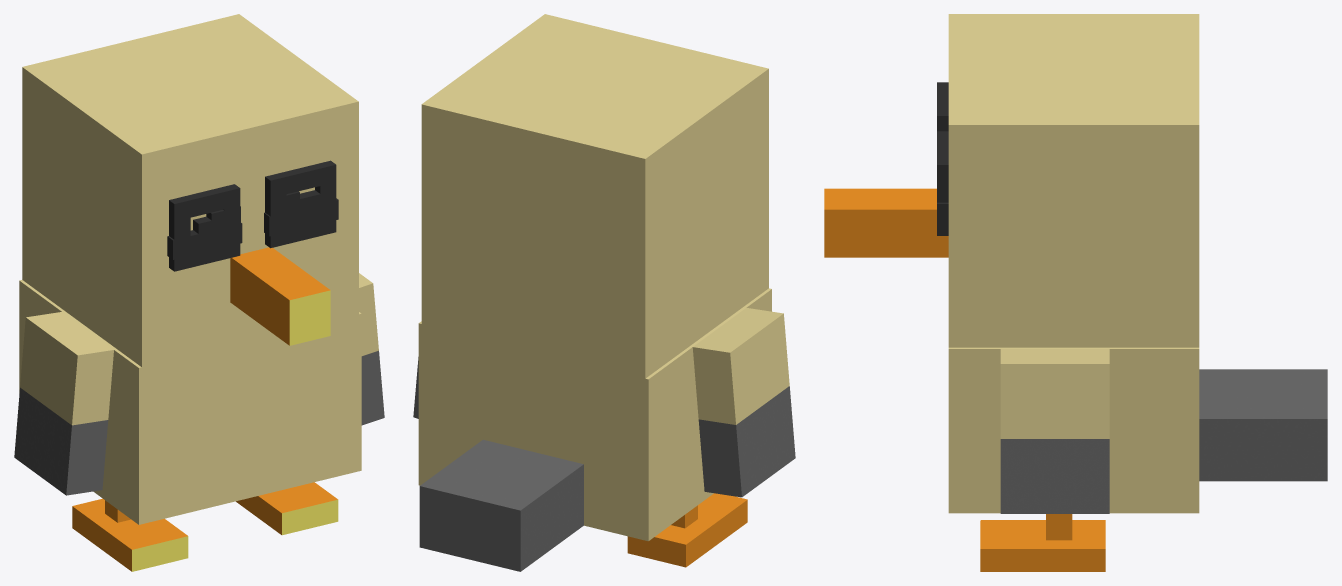
The picture shows the model from 3 angles, left to right: view 1: azimuth 30°, elevation 25°; view 2: azimuth 150°, elevation 25°; view 3: azimuth 270°, elevation 25°; orthographic projection. The views are drawn at different scales.
Visible parts, largest first — view 1: Ch_17_Head, Ch_17, Ch_17_Wing_L, Ch_17_Leg_L, Ch_17_Leg_R, Ch_17_Eye_03_R, Ch_17_Eye_03_L, Ch_17_Wing_R, Ch_17_Eye_02, Ch_17_Eye_01; view 2: Ch_17_Head, Ch_17, Ch_17_Wing_L, Ch_17_Leg_L; view 3: Ch_17_Head, Ch_17, Ch_17_Wing_R, Ch_17_Leg_R, Ch_17_Eye_03_R.
Boxes of the visible parts, x1,y1,x2,y2 form: Ch_17_Head: [22, 14, 358, 367]; Ch_17: [19, 280, 361, 524]; Ch_17_Wing_L: [14, 312, 113, 495]; Ch_17_Leg_L: [72, 498, 188, 571]; Ch_17_Leg_R: [236, 482, 338, 535]; Ch_17_Eye_03_R: [265, 160, 336, 248]; Ch_17_Eye_03_L: [169, 184, 240, 271]; Ch_17_Wing_R: [359, 273, 384, 425]; Ch_17_Eye_02: [167, 198, 338, 259]; Ch_17_Eye_01: [206, 191, 299, 243]; Ch_17_Head: [421, 14, 768, 378]; Ch_17: [418, 288, 771, 571]; Ch_17_Wing_L: [692, 308, 795, 497]; Ch_17_Leg_L: [627, 493, 747, 567]; Ch_17_Head: [824, 14, 1199, 347]; Ch_17: [948, 347, 1327, 513]; Ch_17_Wing_R: [1000, 349, 1109, 513]; Ch_17_Leg_R: [980, 514, 1105, 571]; Ch_17_Eye_03_R: [937, 131, 948, 235].
Bounding box in the file's own units: 8.09 × 10.43 × 10.58.
